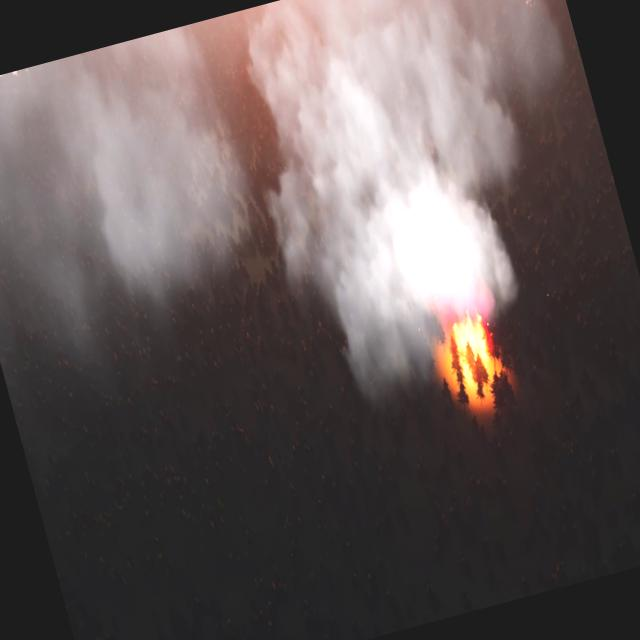fire: (440, 304, 512, 389)
smoke: (213, 0, 640, 418), (0, 20, 280, 380)
